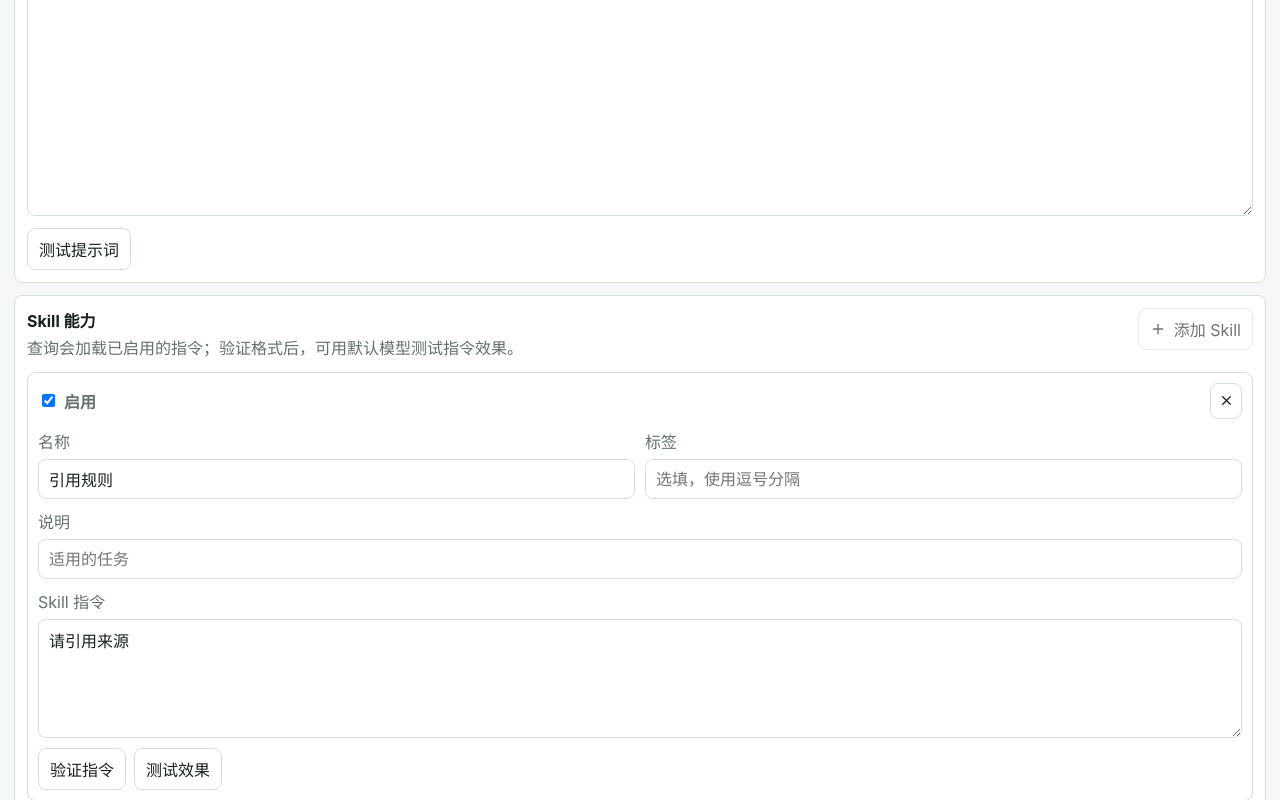
Scenario: settings review regressions › enforces the skills card limit and reopens addition after deletion
The width and height of the screenshot is (1280, 800).
(page scrolled)
Expected: the button "添加 Skill" is disabled, [1138,308,1253,350]
Step 1. Click the button named "删除 Skill" → click(1226, 401), box [1210,383,1242,419]
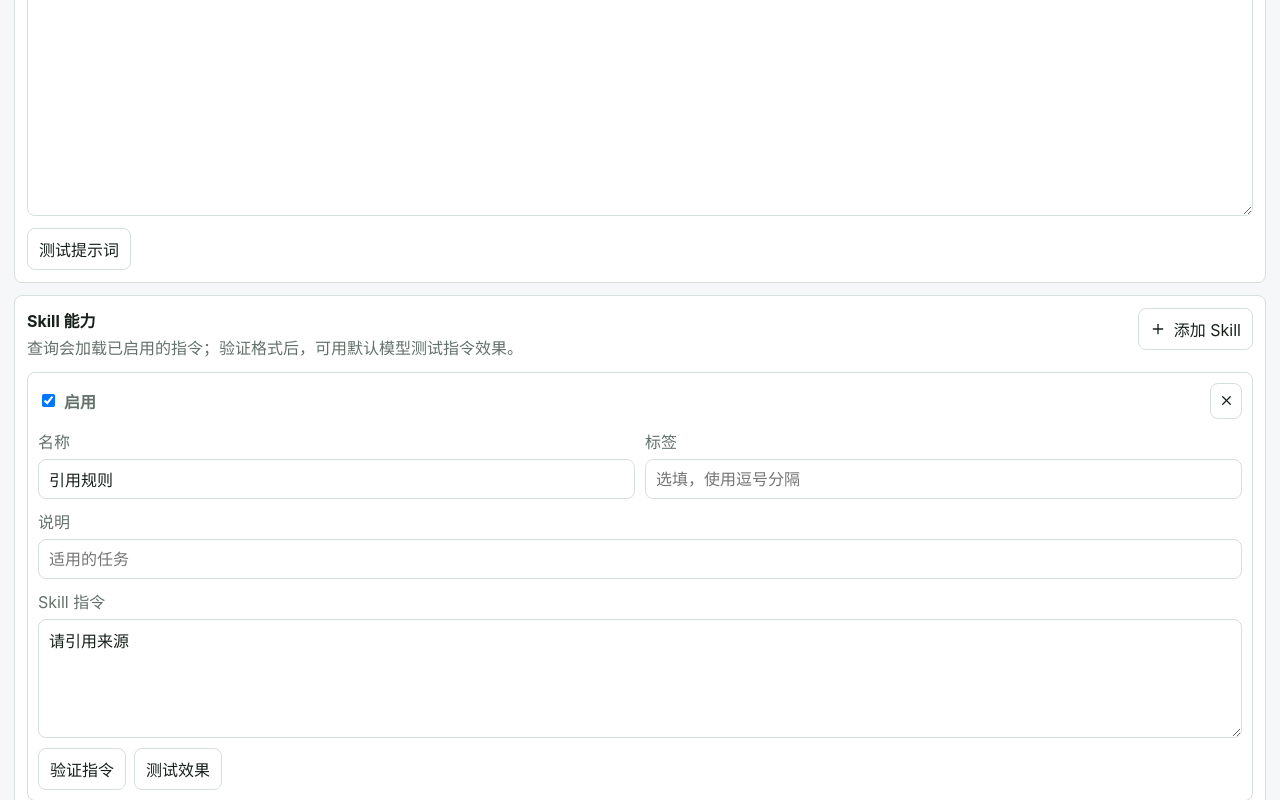
Result: the button "添加 Skill" is enabled
Step 2. Click the button "添加 Skill" → click(1195, 329), box [1138,308,1253,350]
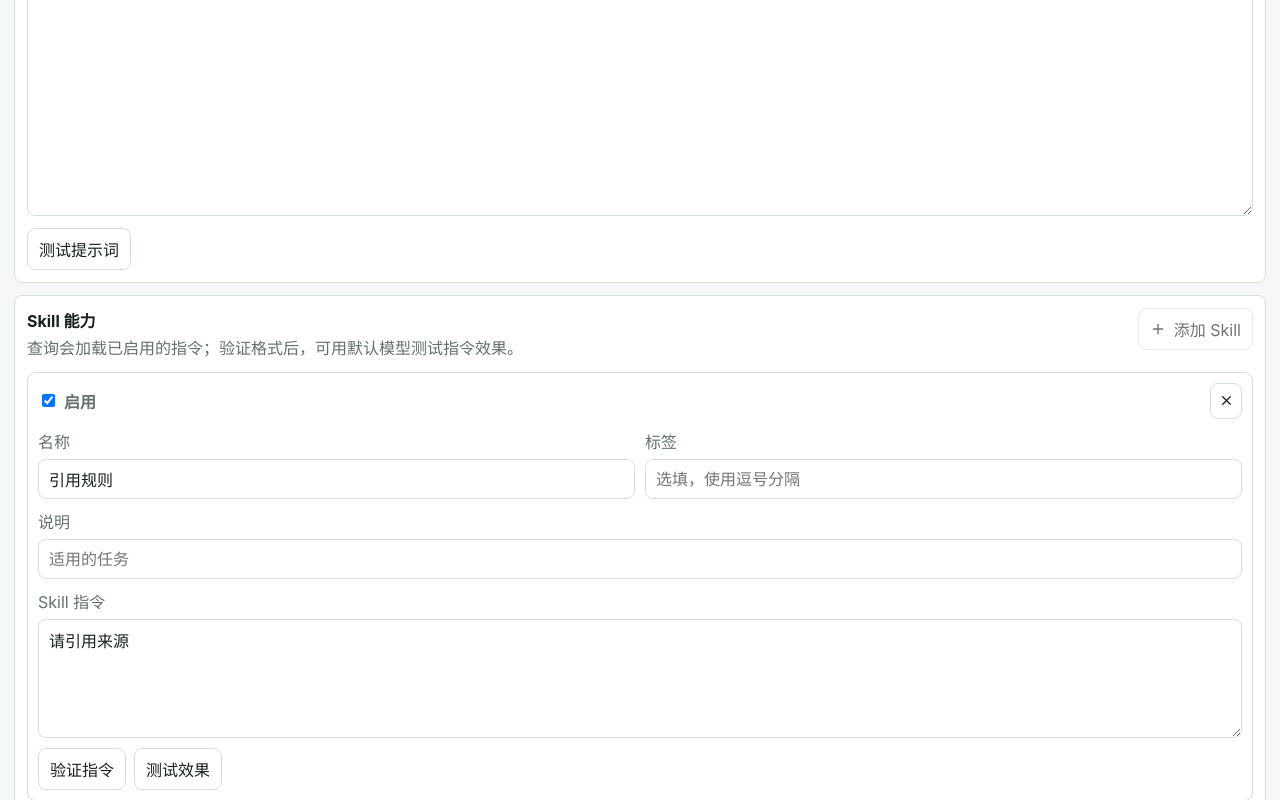
Result: the button "添加 Skill" is disabled at [1138,308,1253,350]
